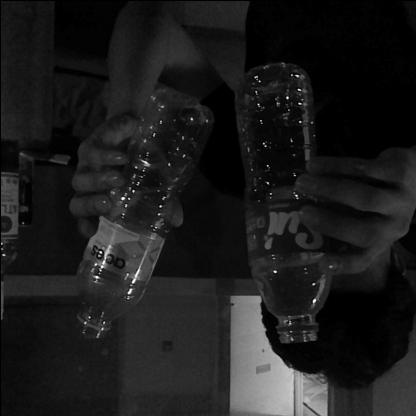plastic_bottles: (70, 82, 212, 338), (231, 62, 330, 342)
